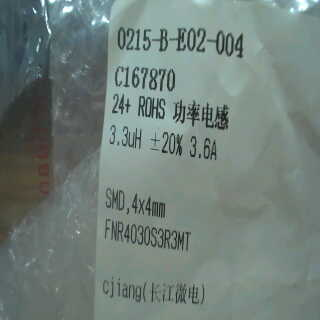3.3uH: (103, 115, 152, 163)
